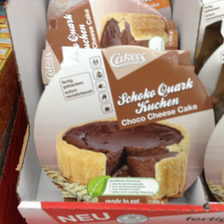cake: (34, 45, 218, 202)
